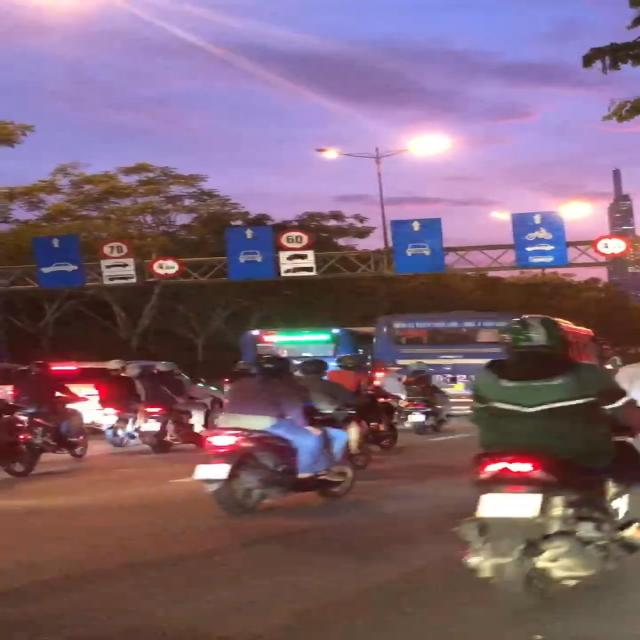Bien bao han che chieu cao: (149, 255, 183, 278)
Bien bao toc do toi da cho phep: (274, 227, 314, 250), (97, 239, 138, 260)
